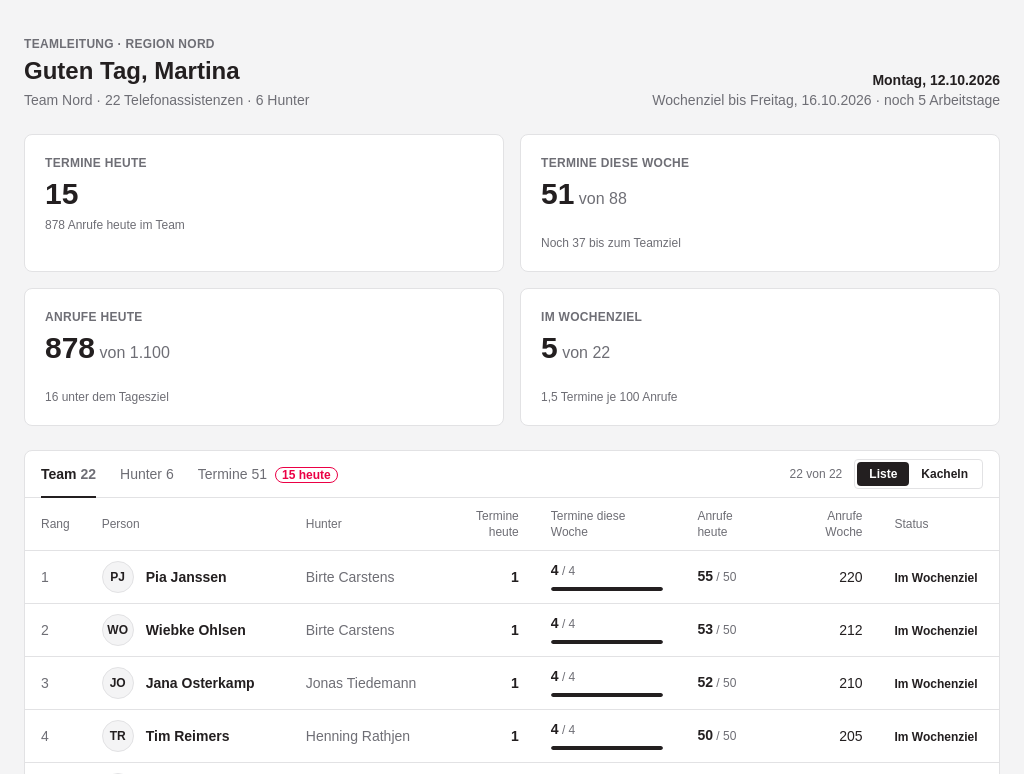
Test: Dashboard Teamleitung › öffnet beim Klick auf eine Person ihre Kennzahlen mit Werdegang
Click the button "Pia Janssen" at (164,577), box x1=102 y1=561 x2=227 y2=593
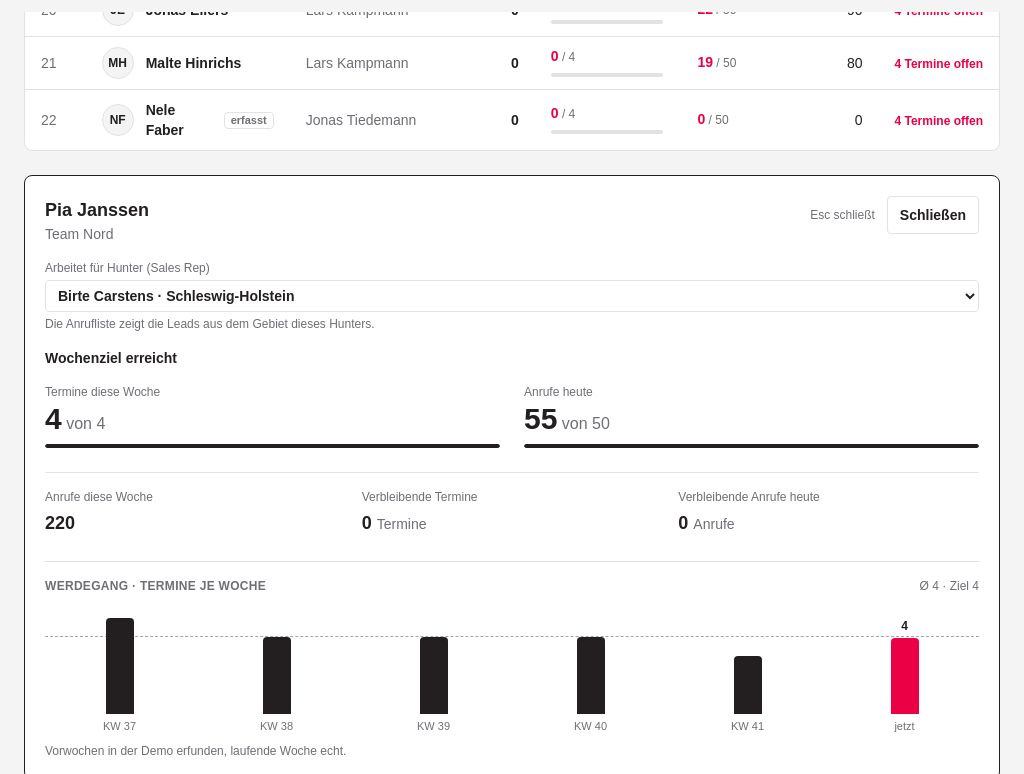
Check: the text "Werdegang · Termine je Woche" is shown, box x1=45 y1=578 x2=266 y2=594
Check: the dropdown labelled "Arbeitet für Hunter (Sales Rep)" shows "Birte Carstens · Schleswig-Holstein", box x1=45 y1=280 x2=979 y2=312
